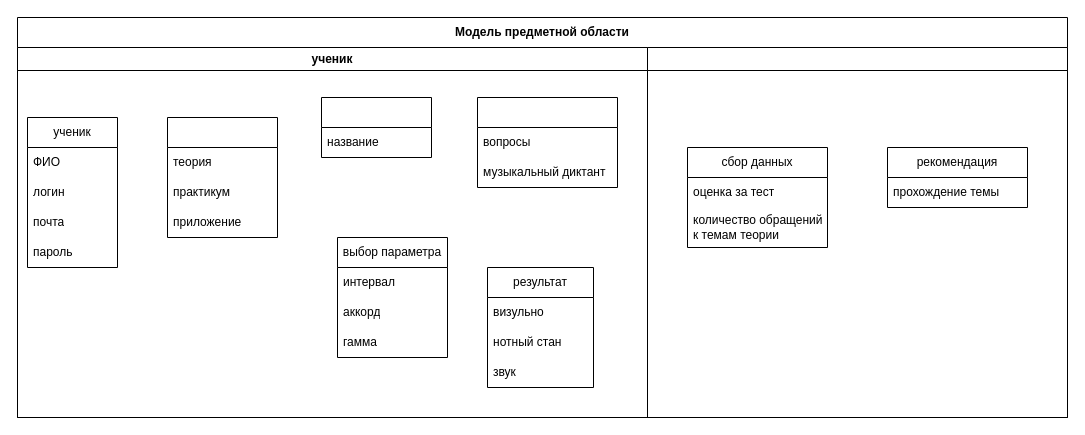
This 1085x435 diagram has some shape labels left out. The box of each missing label's shape, as (x1, y1, x2, y2) in pixels:
выбор действия: (166, 116, 278, 238)
выбор темы: (320, 96, 432, 158)
информационная система: (646, 46, 1068, 418)
тест: (476, 96, 618, 188)
